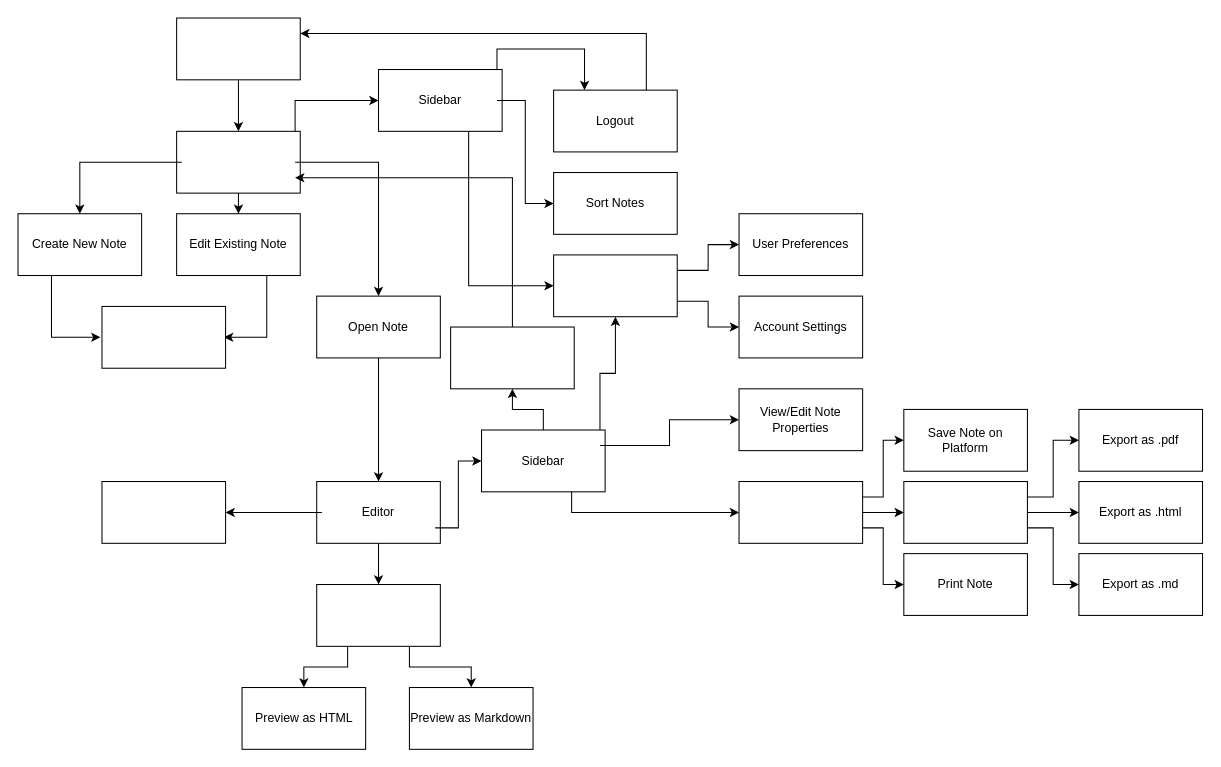
This 1221x767 diagram has some shape labels left out. Each missing label, with the centre of its shape:
Authentication: point 238,48
Back: point 512,357
File: point 800,511
Library Page: point 238,161
Preview: point 378,614
Save/Export on PC: point 965,511
Set Note Properties: point 163,336
Settings: point 615,285
Write Note: point 163,511
